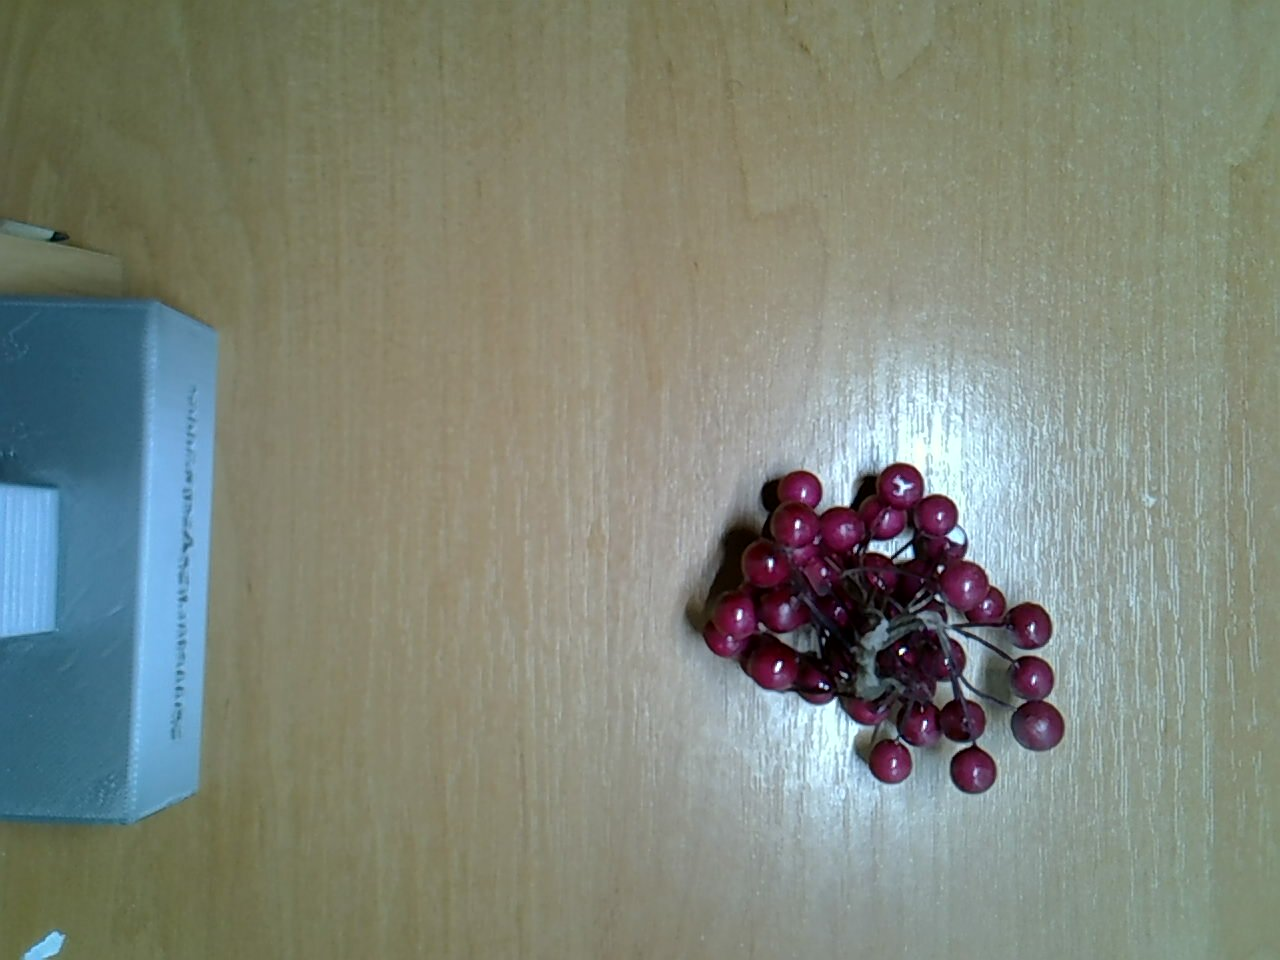berries: (700, 443, 1071, 797)
